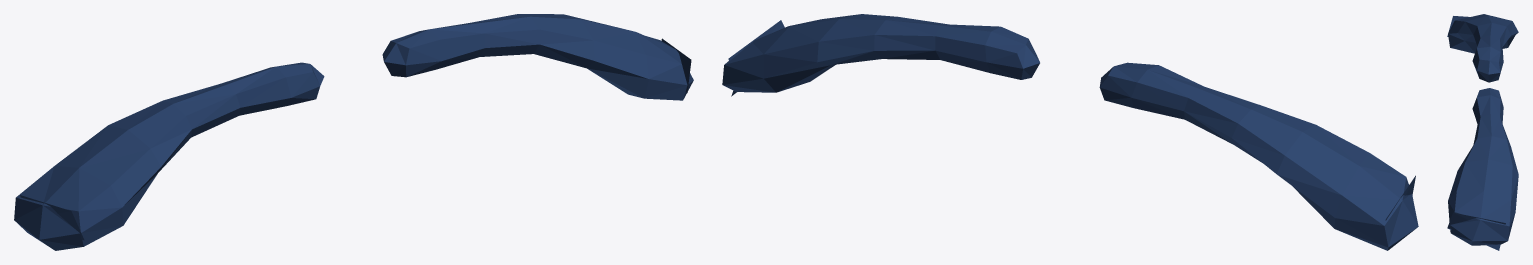
The model's file is Seno Cavernoso.FBX.
3 views of the same model, side by side, from view 1: azimuth 30°, elevation 25°; view 2: azimuth 150°, elevation 25°; view 3: azimuth 270°, elevation 25° (orthographic). The views are drawn at different scales.
Parts seen in each view (by area): view 1: CS_Veins; view 2: CS_Veins; view 3: CS_Veins.
Part boxes in pixels (<box>): CS_Veins: <box>14,14,693,250</box>; CS_Veins: <box>722,14,1418,250</box>; CS_Veins: <box>1447,14,1518,250</box>.
Size of the model in its own units: 234 by 40.7 by 34.11.
